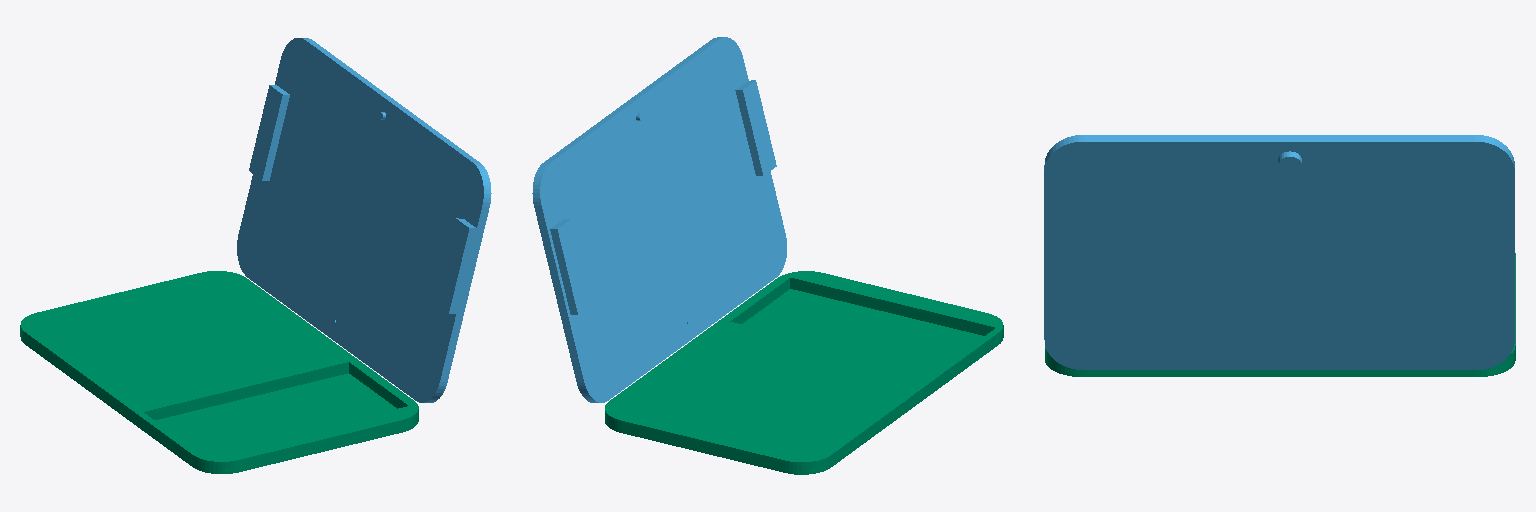
robot.urdf — partnet_ef6d92c90aeabf5becae27d182a3e41c:
<?xml version="1.0" ?>
<robot name="partnet_ef6d92c90aeabf5becae27d182a3e41c">
	<link name="base"/>
	<link name="link_0">
		<visual name="screen-13">
			<origin xyz="0.04312540076091809 0.18940399999999946 0.1858512224381934"/>
			<geometry>
				<mesh filename="textured_objs/original-3.obj"/>
			</geometry>
		</visual>
		<visual name="screen-13">
			<origin xyz="0.04312540076091809 0.18940399999999946 0.1858512224381934"/>
			<geometry>
				<mesh filename="textured_objs/new-2.obj"/>
			</geometry>
		</visual>
		<visual name="screen_frame-14">
			<origin xyz="0.04312540076091809 0.18940399999999946 0.1858512224381934"/>
			<geometry>
				<mesh filename="textured_objs/new-3.obj"/>
			</geometry>
		</visual>
		<visual name="camera-15">
			<origin xyz="0.04312540076091809 0.18940399999999946 0.1858512224381934"/>
			<geometry>
				<mesh filename="textured_objs/original-18.obj"/>
			</geometry>
		</visual>
		<visual name="camera-15">
			<origin xyz="0.04312540076091809 0.18940399999999946 0.1858512224381934"/>
			<geometry>
				<mesh filename="textured_objs/original-19.obj"/>
			</geometry>
		</visual>
		<collision>
			<origin xyz="0.04312540076091809 0.18940399999999946 0.1858512224381934"/>
			<geometry>
				<mesh filename="textured_objs/original-3.obj"/>
			</geometry>
		</collision>
		<collision>
			<origin xyz="0.04312540076091809 0.18940399999999946 0.1858512224381934"/>
			<geometry>
				<mesh filename="textured_objs/new-2.obj"/>
			</geometry>
		</collision>
		<collision>
			<origin xyz="0.04312540076091809 0.18940399999999946 0.1858512224381934"/>
			<geometry>
				<mesh filename="textured_objs/new-3.obj"/>
			</geometry>
		</collision>
		<collision>
			<origin xyz="0.04312540076091809 0.18940399999999946 0.1858512224381934"/>
			<geometry>
				<mesh filename="textured_objs/original-18.obj"/>
			</geometry>
		</collision>
		<collision>
			<origin xyz="0.04312540076091809 0.18940399999999946 0.1858512224381934"/>
			<geometry>
				<mesh filename="textured_objs/original-19.obj"/>
			</geometry>
		</collision>
	</link>
	<joint name="joint_0" type="revolute">
		<origin xyz="-0.04312540076091809 -0.18940399999999946 -0.1858512224381934"/>
		<axis xyz="-0.9659257431444874 0 0"/>
		<child link="link_0"/>
		<parent link="link_1"/>
		<limit lower="-1.834690109696439" upper="-0.0"/>
	</joint>
	<link name="link_1">
		<visual name="keyboard-11">
			<origin xyz="0 0 0"/>
			<geometry>
				<mesh filename="textured_objs/new-0.obj"/>
			</geometry>
		</visual>
		<visual name="base_frame-12">
			<origin xyz="0 0 0"/>
			<geometry>
				<mesh filename="textured_objs/new-1.obj"/>
			</geometry>
		</visual>
		<visual name="base_frame-12">
			<origin xyz="0 0 0"/>
			<geometry>
				<mesh filename="textured_objs/original-22.obj"/>
			</geometry>
		</visual>
		<collision>
			<origin xyz="0 0 0"/>
			<geometry>
				<mesh filename="textured_objs/new-0.obj"/>
			</geometry>
		</collision>
		<collision>
			<origin xyz="0 0 0"/>
			<geometry>
				<mesh filename="textured_objs/new-1.obj"/>
			</geometry>
		</collision>
		<collision>
			<origin xyz="0 0 0"/>
			<geometry>
				<mesh filename="textured_objs/original-22.obj"/>
			</geometry>
		</collision>
	</link>
	<joint name="joint_1" type="fixed">
		<origin rpy="1.570796326794897 0 -1.570796326794897" xyz="0 0 0"/>
		<child link="link_1"/>
		<parent link="base"/>
	</joint>
</robot>

--- What the picture shows (computed from the rendered views, not written in the file) ---
The picture shows the robot from 3 angles, left to right: view 1: azimuth 30°, elevation 25°; view 2: azimuth 150°, elevation 25°; view 3: azimuth 270°, elevation 25°; orthographic projection.
Robot: partnet_ef6d92c90aeabf5becae27d182a3e41c — 3 links, 2 joints (1 revolute, 1 fixed); root link base; default pose: every joint at zero.
Visible links, largest first — view 1: link_0, link_1; view 2: link_0, link_1; view 3: link_0, link_1.
Link boxes in pixels (<box>): link_0: <box>237,38,491,402</box>; link_1: <box>20,271,418,473</box>; link_0: <box>532,37,786,402</box>; link_1: <box>605,271,1003,474</box>; link_0: <box>1044,135,1514,369</box>; link_1: <box>1045,253,1515,376</box>.
Size in the robot's own frame: 1.2 by 1.44 by 0.9327 metres.
Meshes: 8 distinct files referenced, 8 mesh visuals loaded (8 OBJ).
